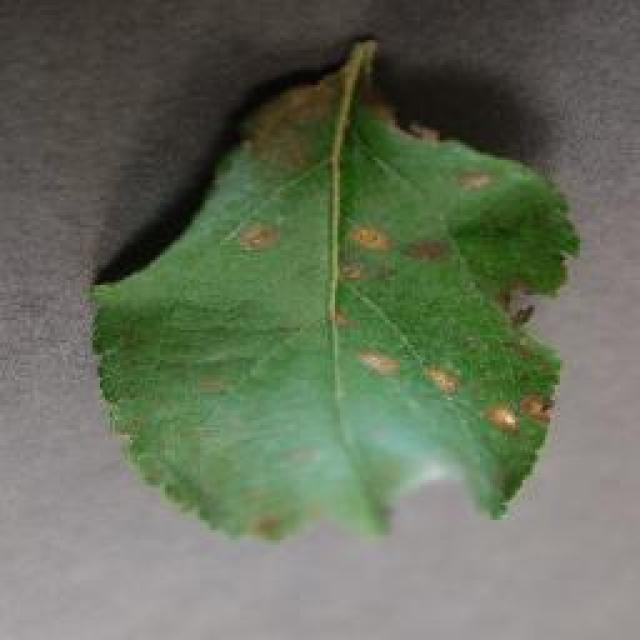apple healthy: (85, 38, 583, 542)
